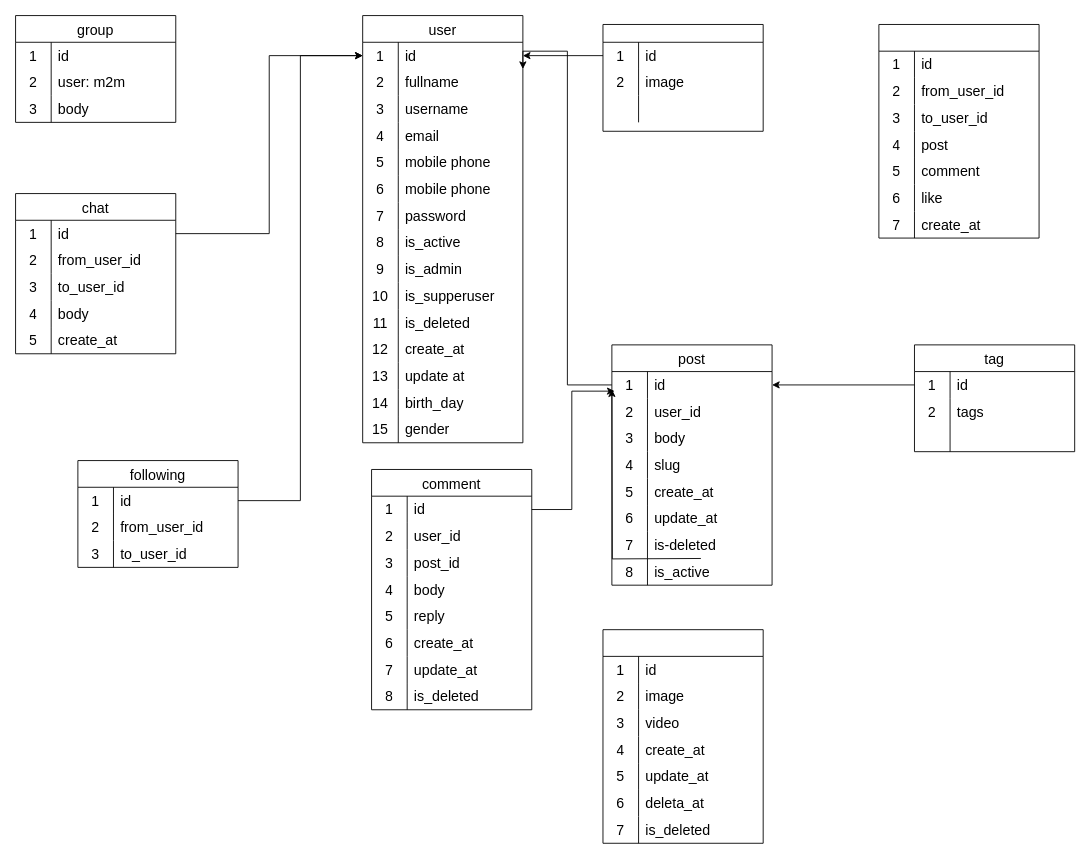
The diagram is 1090 pixels wide and 859 high, and some of its shapes have lost their labels. The shapes that lost their labels are listed below. From the top down, each one's box as (x1, y1, x2, y2) in pixels, then its label:
(602, 24, 763, 131): user info
(878, 24, 1039, 238): relation_post
(602, 629, 763, 843): PostOption
